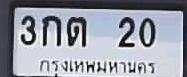0: (138, 17, 155, 46)
2: (118, 16, 134, 46)
3: (20, 14, 35, 44)
A01: (41, 15, 60, 45)
A21: (66, 16, 86, 46)
BKK: (37, 54, 157, 77)
